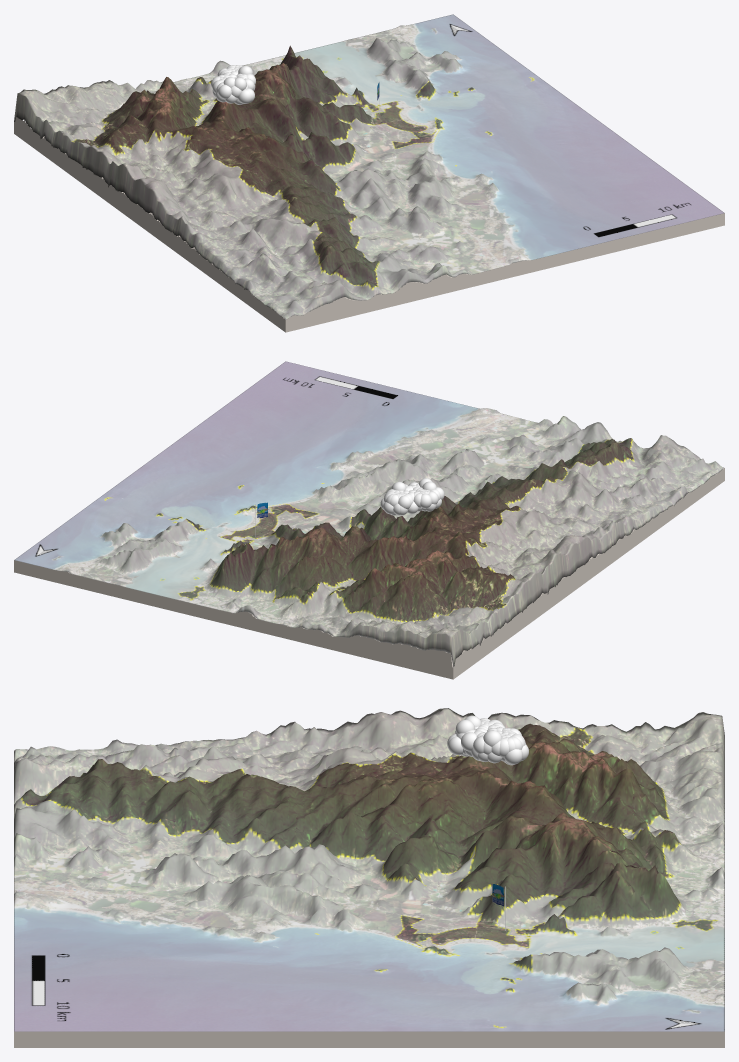
File: MAQUETE SERRA DO TABULEIRO.gltf
3 renders of one model, top to bottom at view 1: azimuth 30°, elevation 25°; view 2: azimuth 150°, elevation 25°; view 3: azimuth 270°, elevation 25°, orthographic. The views are drawn at different scales.
Visible parts, largest first — view 1: SRTM-EX4, side; view 2: SRTM-EX4, side; view 3: SRTM-EX4, side.
Part boxes in pixels (left/top/right/bottom): SRTM-EX4: left=14, top=14, right=724, bottom=319; side: left=14, top=117, right=724, bottom=332; SRTM-EX4: left=14, top=361, right=723, bottom=666; side: left=14, top=468, right=724, bottom=679; SRTM-EX4: left=14, top=708, right=724, bottom=1031; side: left=14, top=1031, right=724, bottom=1047.
Size of the model in its own units: 56.17 by 11.9 by 60.15.
7 materials, 3 textured.
